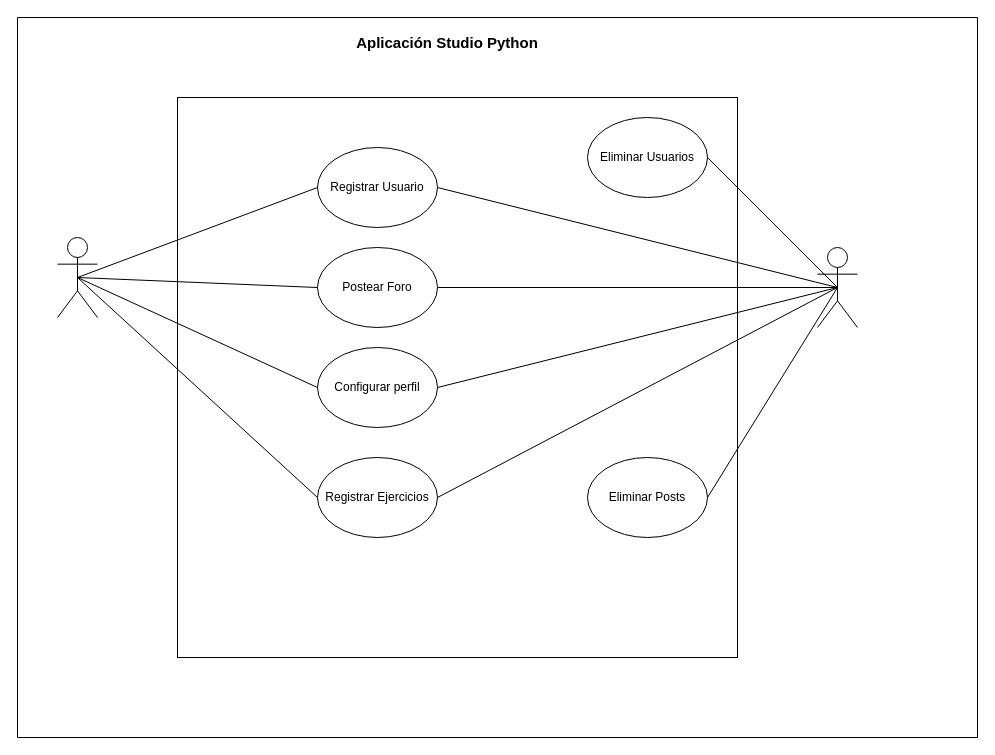
Image size: 995x755. Some labels were removed from this diagram. Each missing label, with the centre of its shape:
Admin: the point at 837,287
Usuario: the point at 77,277
